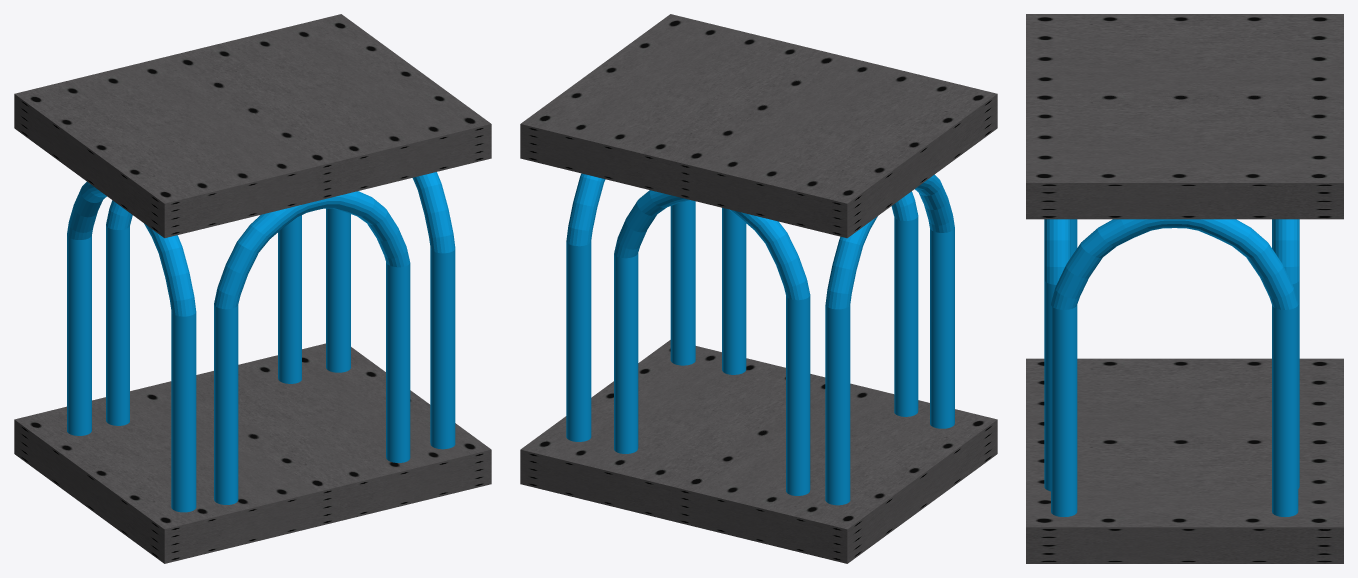
Rendered from Industrialist Elevator.fbx.
The picture shows the model from 3 angles, left to right: view 1: azimuth 30°, elevation 25°; view 2: azimuth 150°, elevation 25°; view 3: azimuth 270°, elevation 25°; orthographic projection. The views are drawn at different scales.
Visible parts, largest first — view 1: Industrialist_Elevator_1, Industrialist_Elevator_Nuclear_Rod_4, Industrialist_Elevator_Nuclear_Rod_1, Industrialist_Elevator_Nuclear_Rod_2, Industrialist_Elevator_Nuclear_Rod_3; view 2: Industrialist_Elevator_1, Industrialist_Elevator_Nuclear_Rod_3, Industrialist_Elevator_Nuclear_Rod_1, Industrialist_Elevator_Nuclear_Rod_2, Industrialist_Elevator_Nuclear_Rod_4; view 3: Industrialist_Elevator_1, Industrialist_Elevator_Nuclear_Rod_2, Industrialist_Elevator_Nuclear_Rod_4, Industrialist_Elevator_Nuclear_Rod_3.
Part boxes in pixels (x1,y1,x2,y2): Industrialist_Elevator_1: (14, 14, 491, 563); Industrialist_Elevator_Nuclear_Rod_4: (214, 191, 410, 504); Industrialist_Elevator_Nuclear_Rod_1: (67, 182, 196, 512); Industrialist_Elevator_Nuclear_Rod_2: (326, 172, 455, 449); Industrialist_Elevator_Nuclear_Rod_3: (106, 200, 301, 425); Industrialist_Elevator_1: (520, 14, 997, 563); Industrialist_Elevator_Nuclear_Rod_3: (614, 190, 810, 495); Industrialist_Elevator_Nuclear_Rod_1: (825, 174, 954, 505); Industrialist_Elevator_Nuclear_Rod_2: (566, 173, 695, 441); Industrialist_Elevator_Nuclear_Rod_4: (722, 191, 918, 416); Industrialist_Elevator_1: (1026, 14, 1343, 563); Industrialist_Elevator_Nuclear_Rod_2: (1051, 219, 1298, 516); Industrialist_Elevator_Nuclear_Rod_4: (1044, 219, 1070, 491); Industrialist_Elevator_Nuclear_Rod_3: (1273, 219, 1299, 488).
Size of the model in its own units: 13.6 by 14.31 by 10.82.
2 materials, 1 textured.
